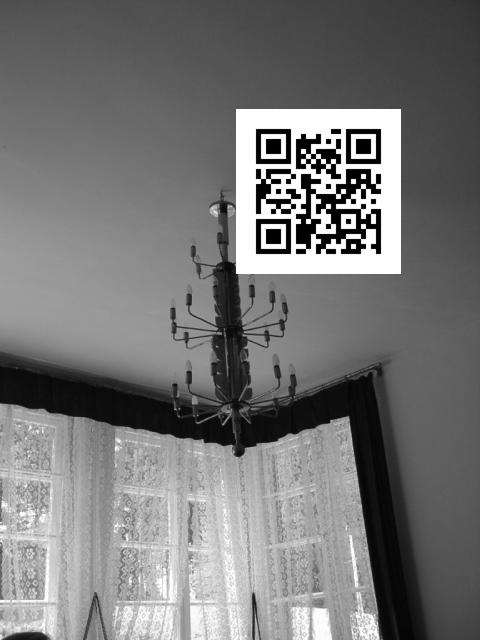qr_code: (236, 108, 401, 273)
